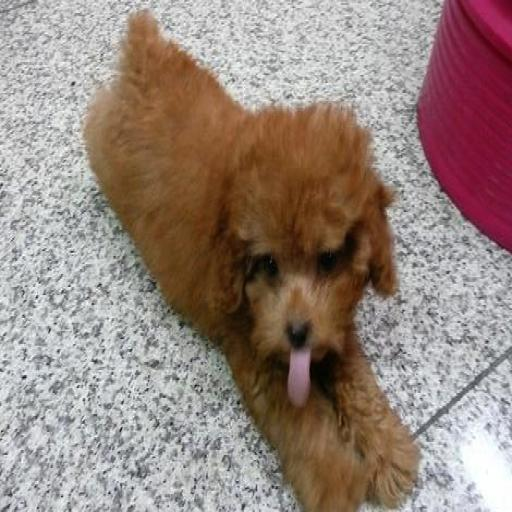dog_face: (230, 113, 378, 368)
